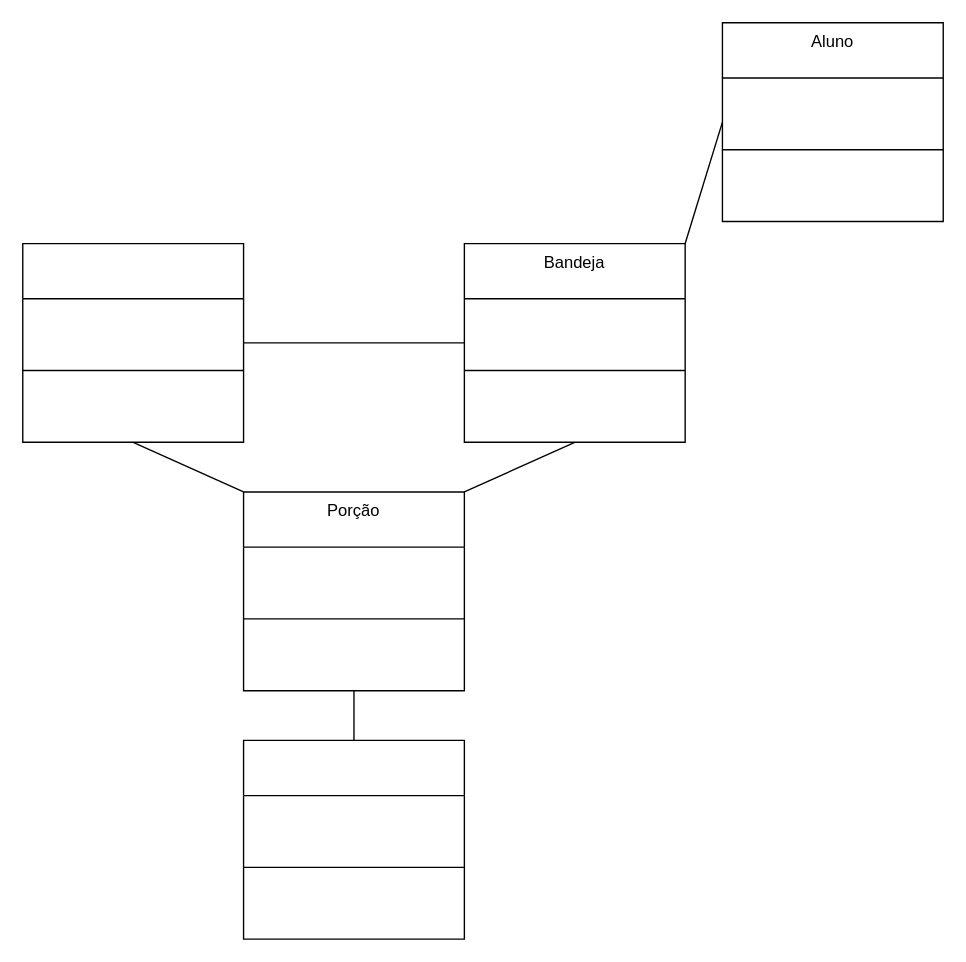
This 966x962 diagram has some shape labels left out. Here are the shapes that lost their labels. From the top down, the centre of each, then its label:
(x=132, y=342): Cardápio
(x=353, y=839): Ingrediente
